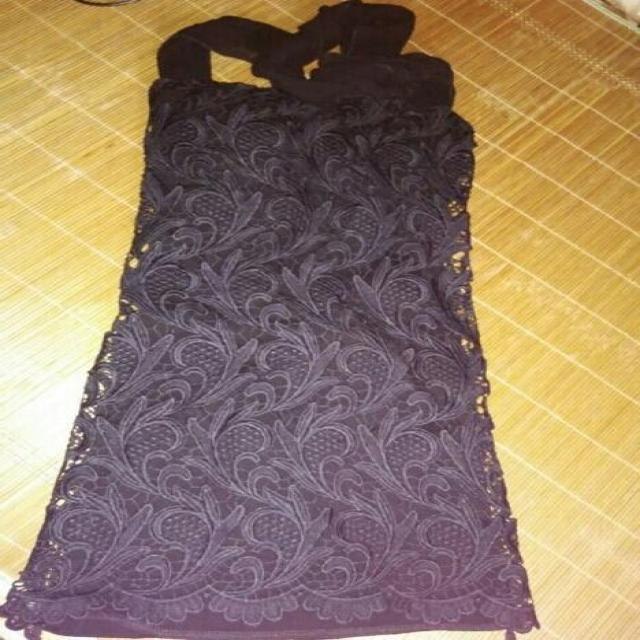sling dress: (1, 30, 542, 640)
